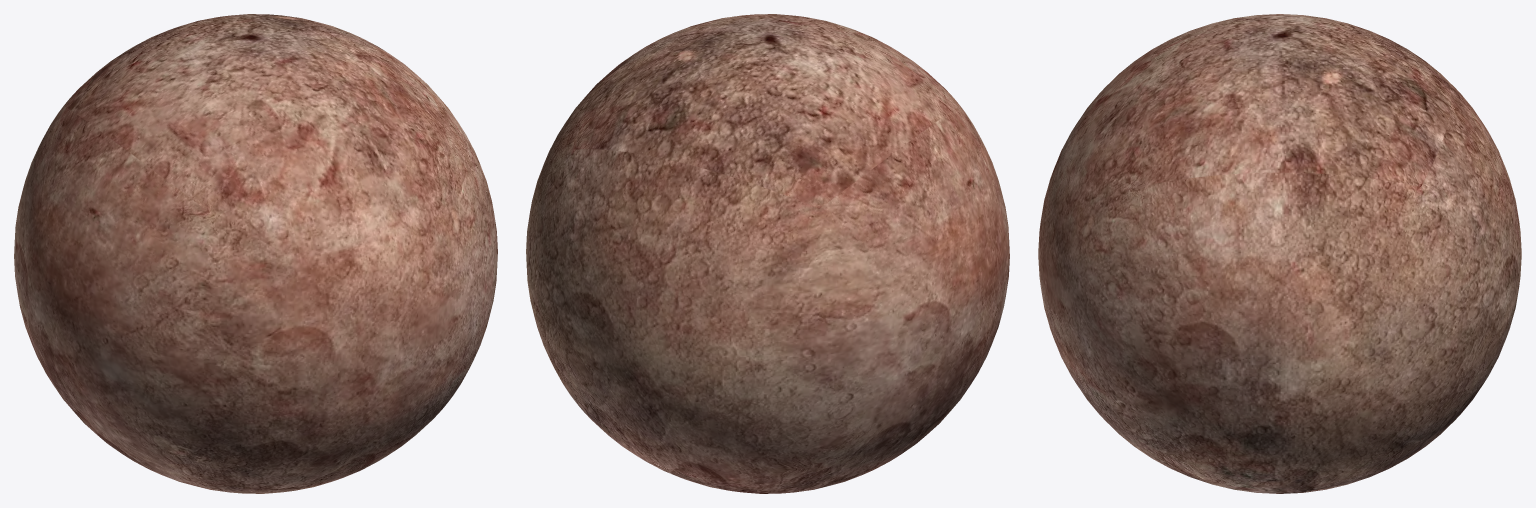
The model's file is makemake.glb.
3 views of the same model, side by side, from view 1: azimuth 30°, elevation 25°; view 2: azimuth 150°, elevation 25°; view 3: azimuth 270°, elevation 25° (orthographic).
Parts seen in each view (by area): view 1: Cube.008; view 2: Cube.008; view 3: Cube.008.
Part boxes in pixels (bbox=[...]): Cube.008: bbox=[14, 14, 497, 493]; Cube.008: bbox=[526, 14, 1009, 493]; Cube.008: bbox=[1038, 14, 1521, 493].
Bounding box in the file's own units: 1000 × 990 × 1000.
Materials: 1 (1 with a texture image).
